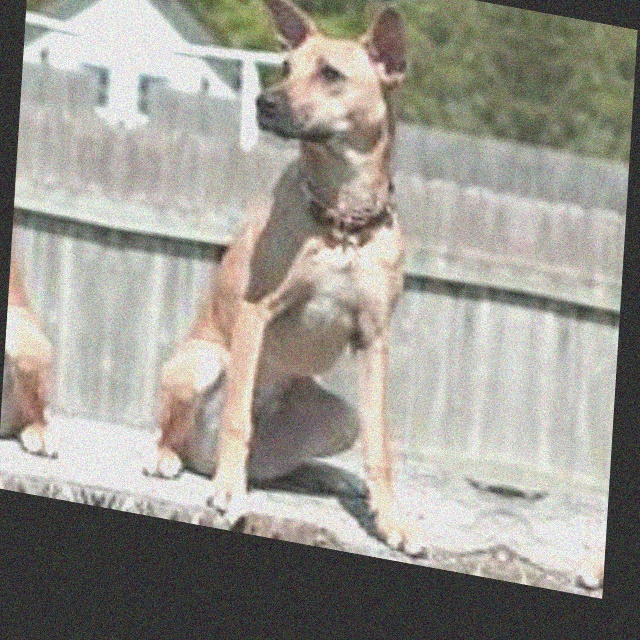dog: (151, 0, 519, 578), (515, 46, 636, 599), (0, 0, 76, 496)
